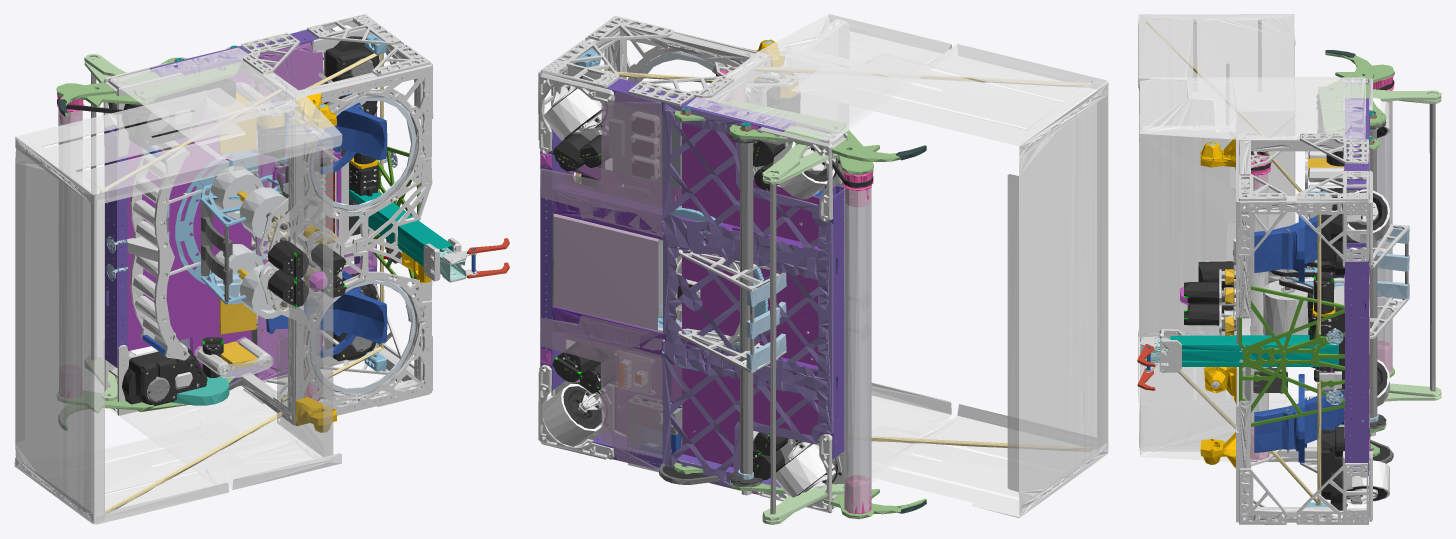
3 views of the same model, side by side, from view 1: azimuth 30°, elevation 25°; view 2: azimuth 150°, elevation 25°; view 3: azimuth 270°, elevation 25° (orthographic). The views are drawn at different scales.
Visible parts, largest first — view 1: main_mesh, c5_mesh, c2_mesh, c0_mesh, c4_mesh; view 2: main_mesh, c5_mesh, c1_mesh, c3_mesh, c0_mesh, c2_mesh; view 3: main_mesh, c5_mesh, c2_mesh, c1_mesh, c3_mesh, c0_mesh, c4_mesh.
Boxes of the visible parts, <box> form: main_mesh: <box>14,14,461,524</box>; c5_mesh: <box>56,45,242,430</box>; c2_mesh: <box>175,145,324,304</box>; c0_mesh: <box>201,142,323,303</box>; c4_mesh: <box>439,238,509,282</box>; main_mesh: <box>538,14,1108,518</box>; c5_mesh: <box>659,101,926,524</box>; c1_mesh: <box>678,249,786,372</box>; c3_mesh: <box>678,249,786,372</box>; c0_mesh: <box>658,206,768,370</box>; c2_mesh: <box>649,206,768,370</box>; main_mesh: <box>1138,14,1389,524</box>; c5_mesh: <box>1316,50,1441,463</box>; c2_mesh: <box>1263,260,1344,368</box>; c1_mesh: <box>1370,224,1409,339</box>; c3_mesh: <box>1370,225,1409,338</box>; c0_mesh: <box>1265,262,1344,334</box>; c4_mesh: <box>1137,336,1243,390</box>.
Size of the model in its own units: 1.01 by 0.7588 by 0.6417.
